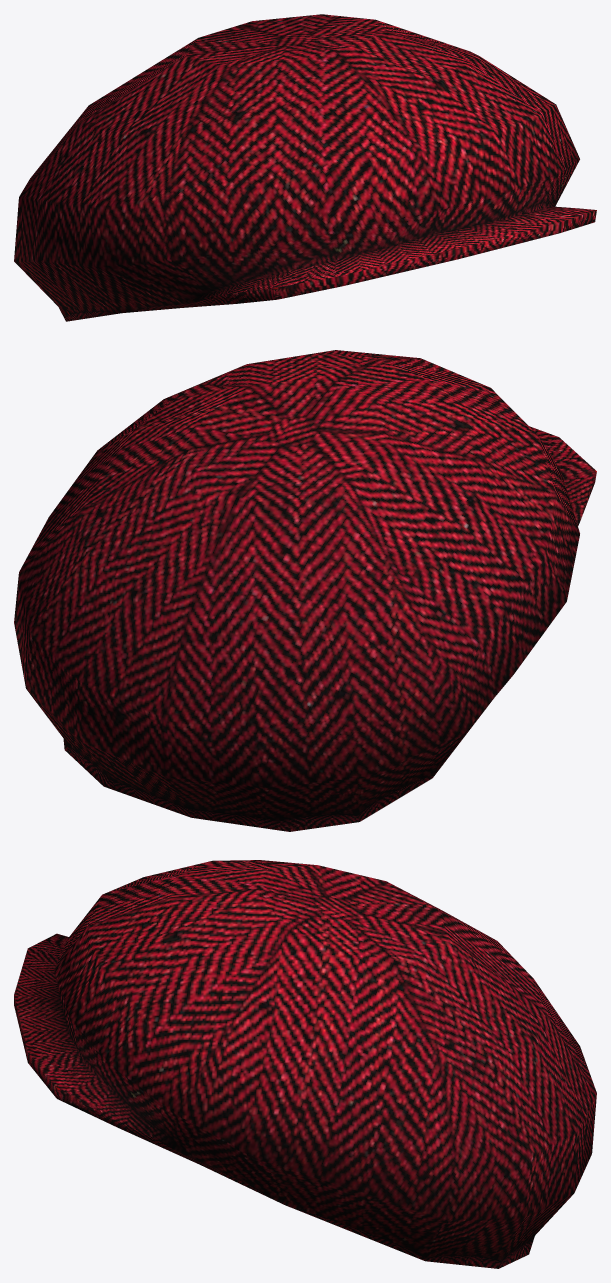
Rendered from TPFHatC.fbx.
The picture shows the model from 3 angles, top to bottom: view 1: azimuth 30°, elevation 25°; view 2: azimuth 150°, elevation 25°; view 3: azimuth 270°, elevation 25°; orthographic projection.
Visible parts, largest first — view 1: TPFHatC; view 2: TPFHatC; view 3: TPFHatC.
Part boxes in pixels (box(x1,y1,x2,y2)): TPFHatC: box(14, 14, 596, 321); TPFHatC: box(14, 350, 596, 831); TPFHatC: box(14, 860, 596, 1268).
Bounding box in the file's own units: 23.51 × 15.85 × 25.69.
Materials: 1 (1 with a texture image).
